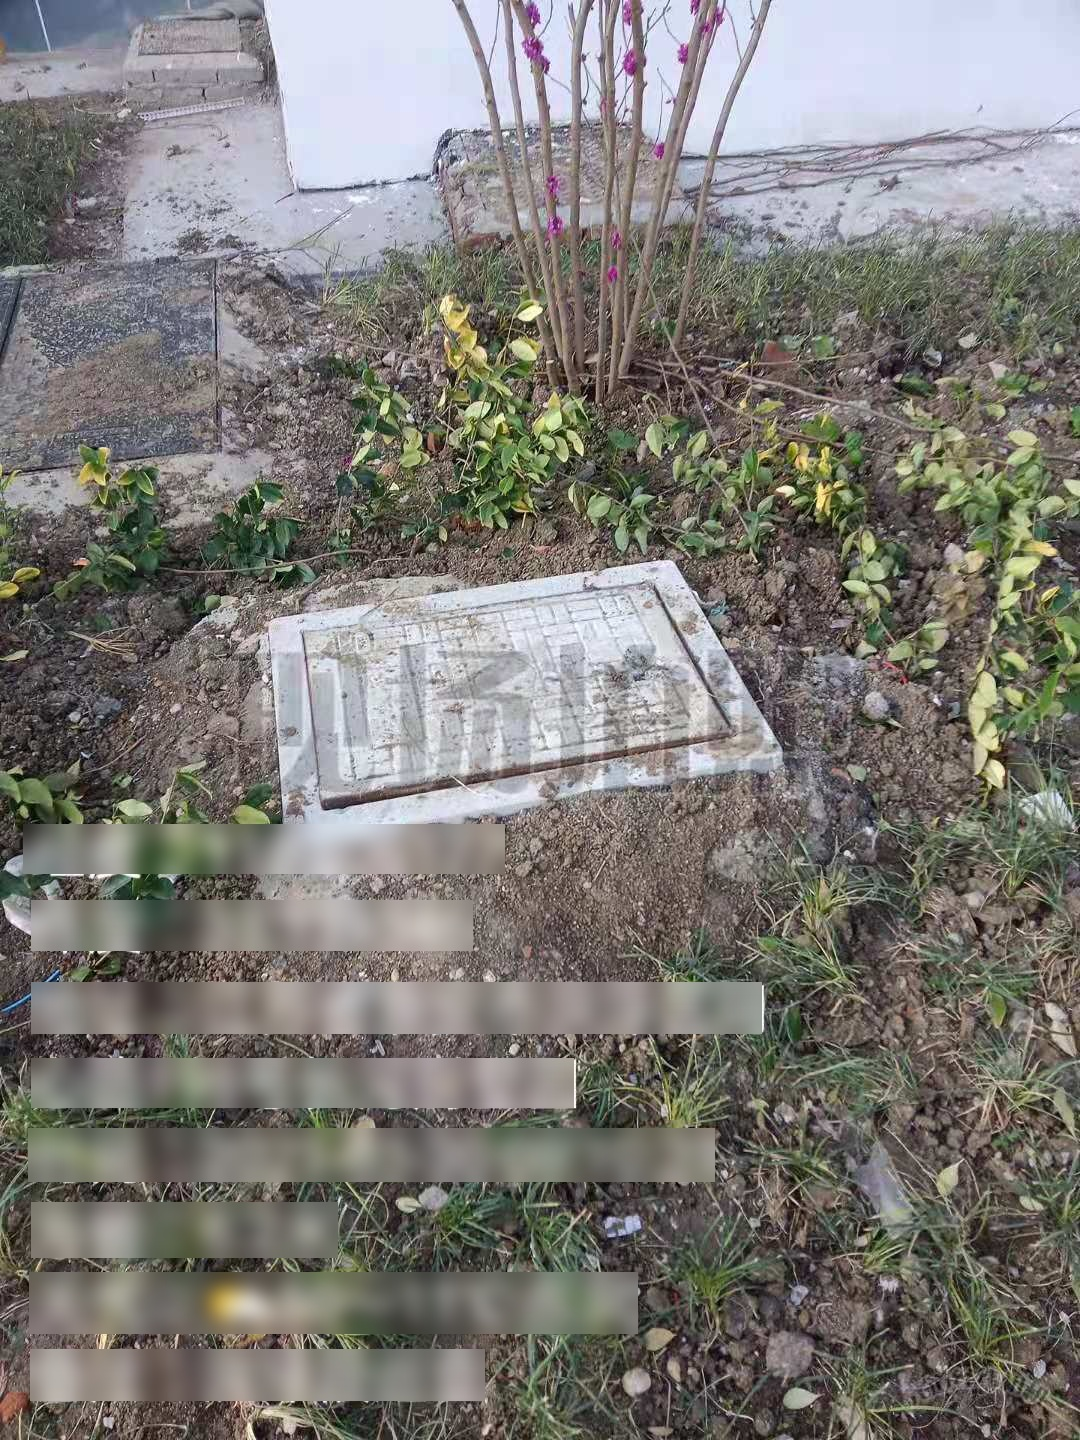good: (265, 561, 785, 853)
